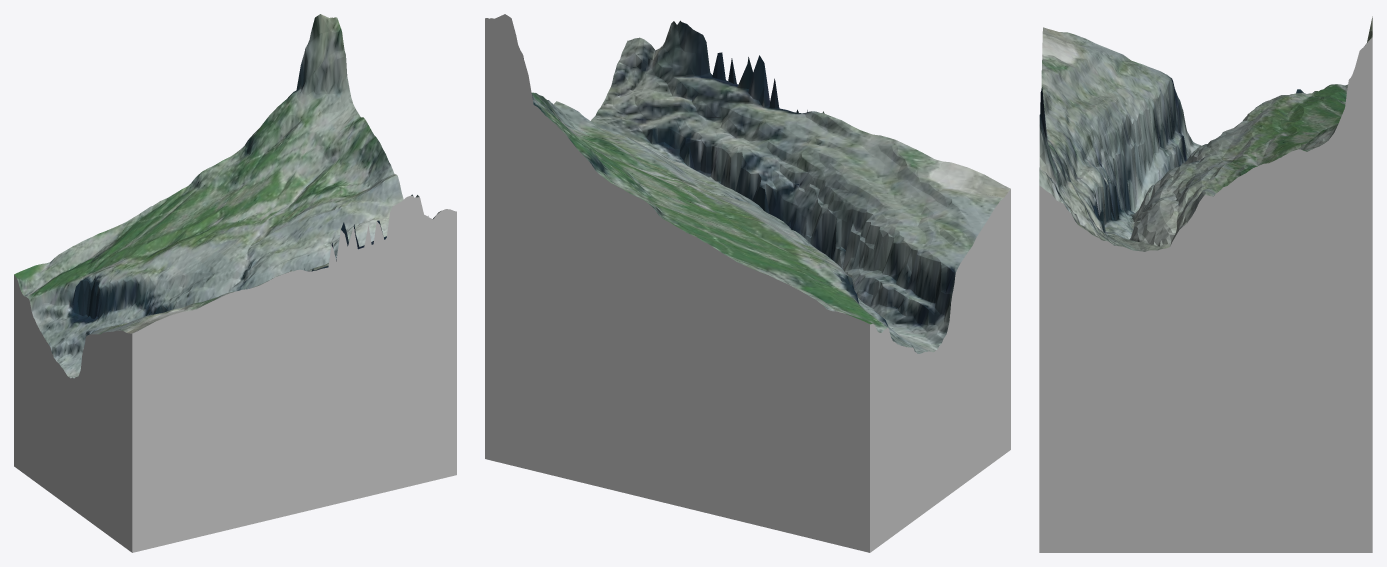
File: GrindScene12.gltf
The picture shows the model from 3 angles, left to right: view 1: azimuth 30°, elevation 25°; view 2: azimuth 150°, elevation 25°; view 3: azimuth 270°, elevation 25°; orthographic projection. The views are drawn at different scales.
Parts seen in each view (by area): view 1: Plane; view 2: Plane; view 3: Plane.
Boxes of the visible parts, <box> form: Plane: <box>14,14,456,552</box>; Plane: <box>485,14,1010,552</box>; Plane: <box>1039,16,1372,552</box>.
Size of the model in its own units: 0.6 by 0.67 by 0.3845.
Materials: 2 (1 with a texture image).
